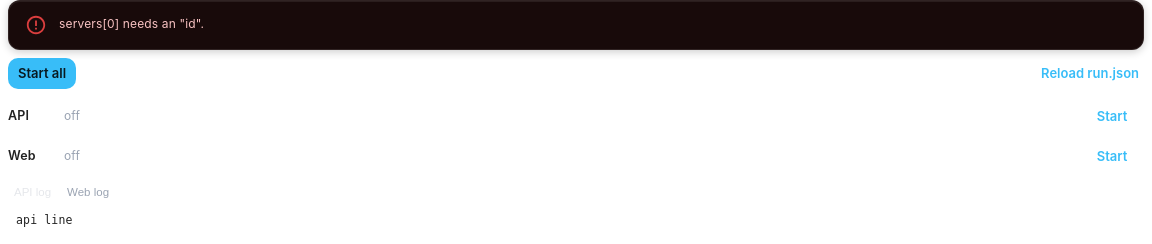
Test: RunTab › shows the picked server log and a broken run.json
Expected: the text "servers[0] needs an \"id\"." is shown, x1=59 y1=16 x2=204 y2=31
Expected: the element with test id "run-log" reads "api line", x1=16 y1=213 x2=73 y2=227
Click the tab "Web log" at (88, 192), box x1=61 y1=184 x2=115 y2=200
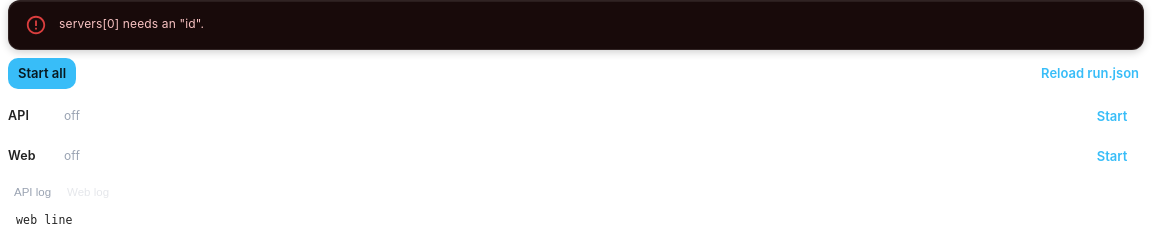
Now the element with test id "run-log" reads "web line", box x1=16 y1=213 x2=73 y2=227
